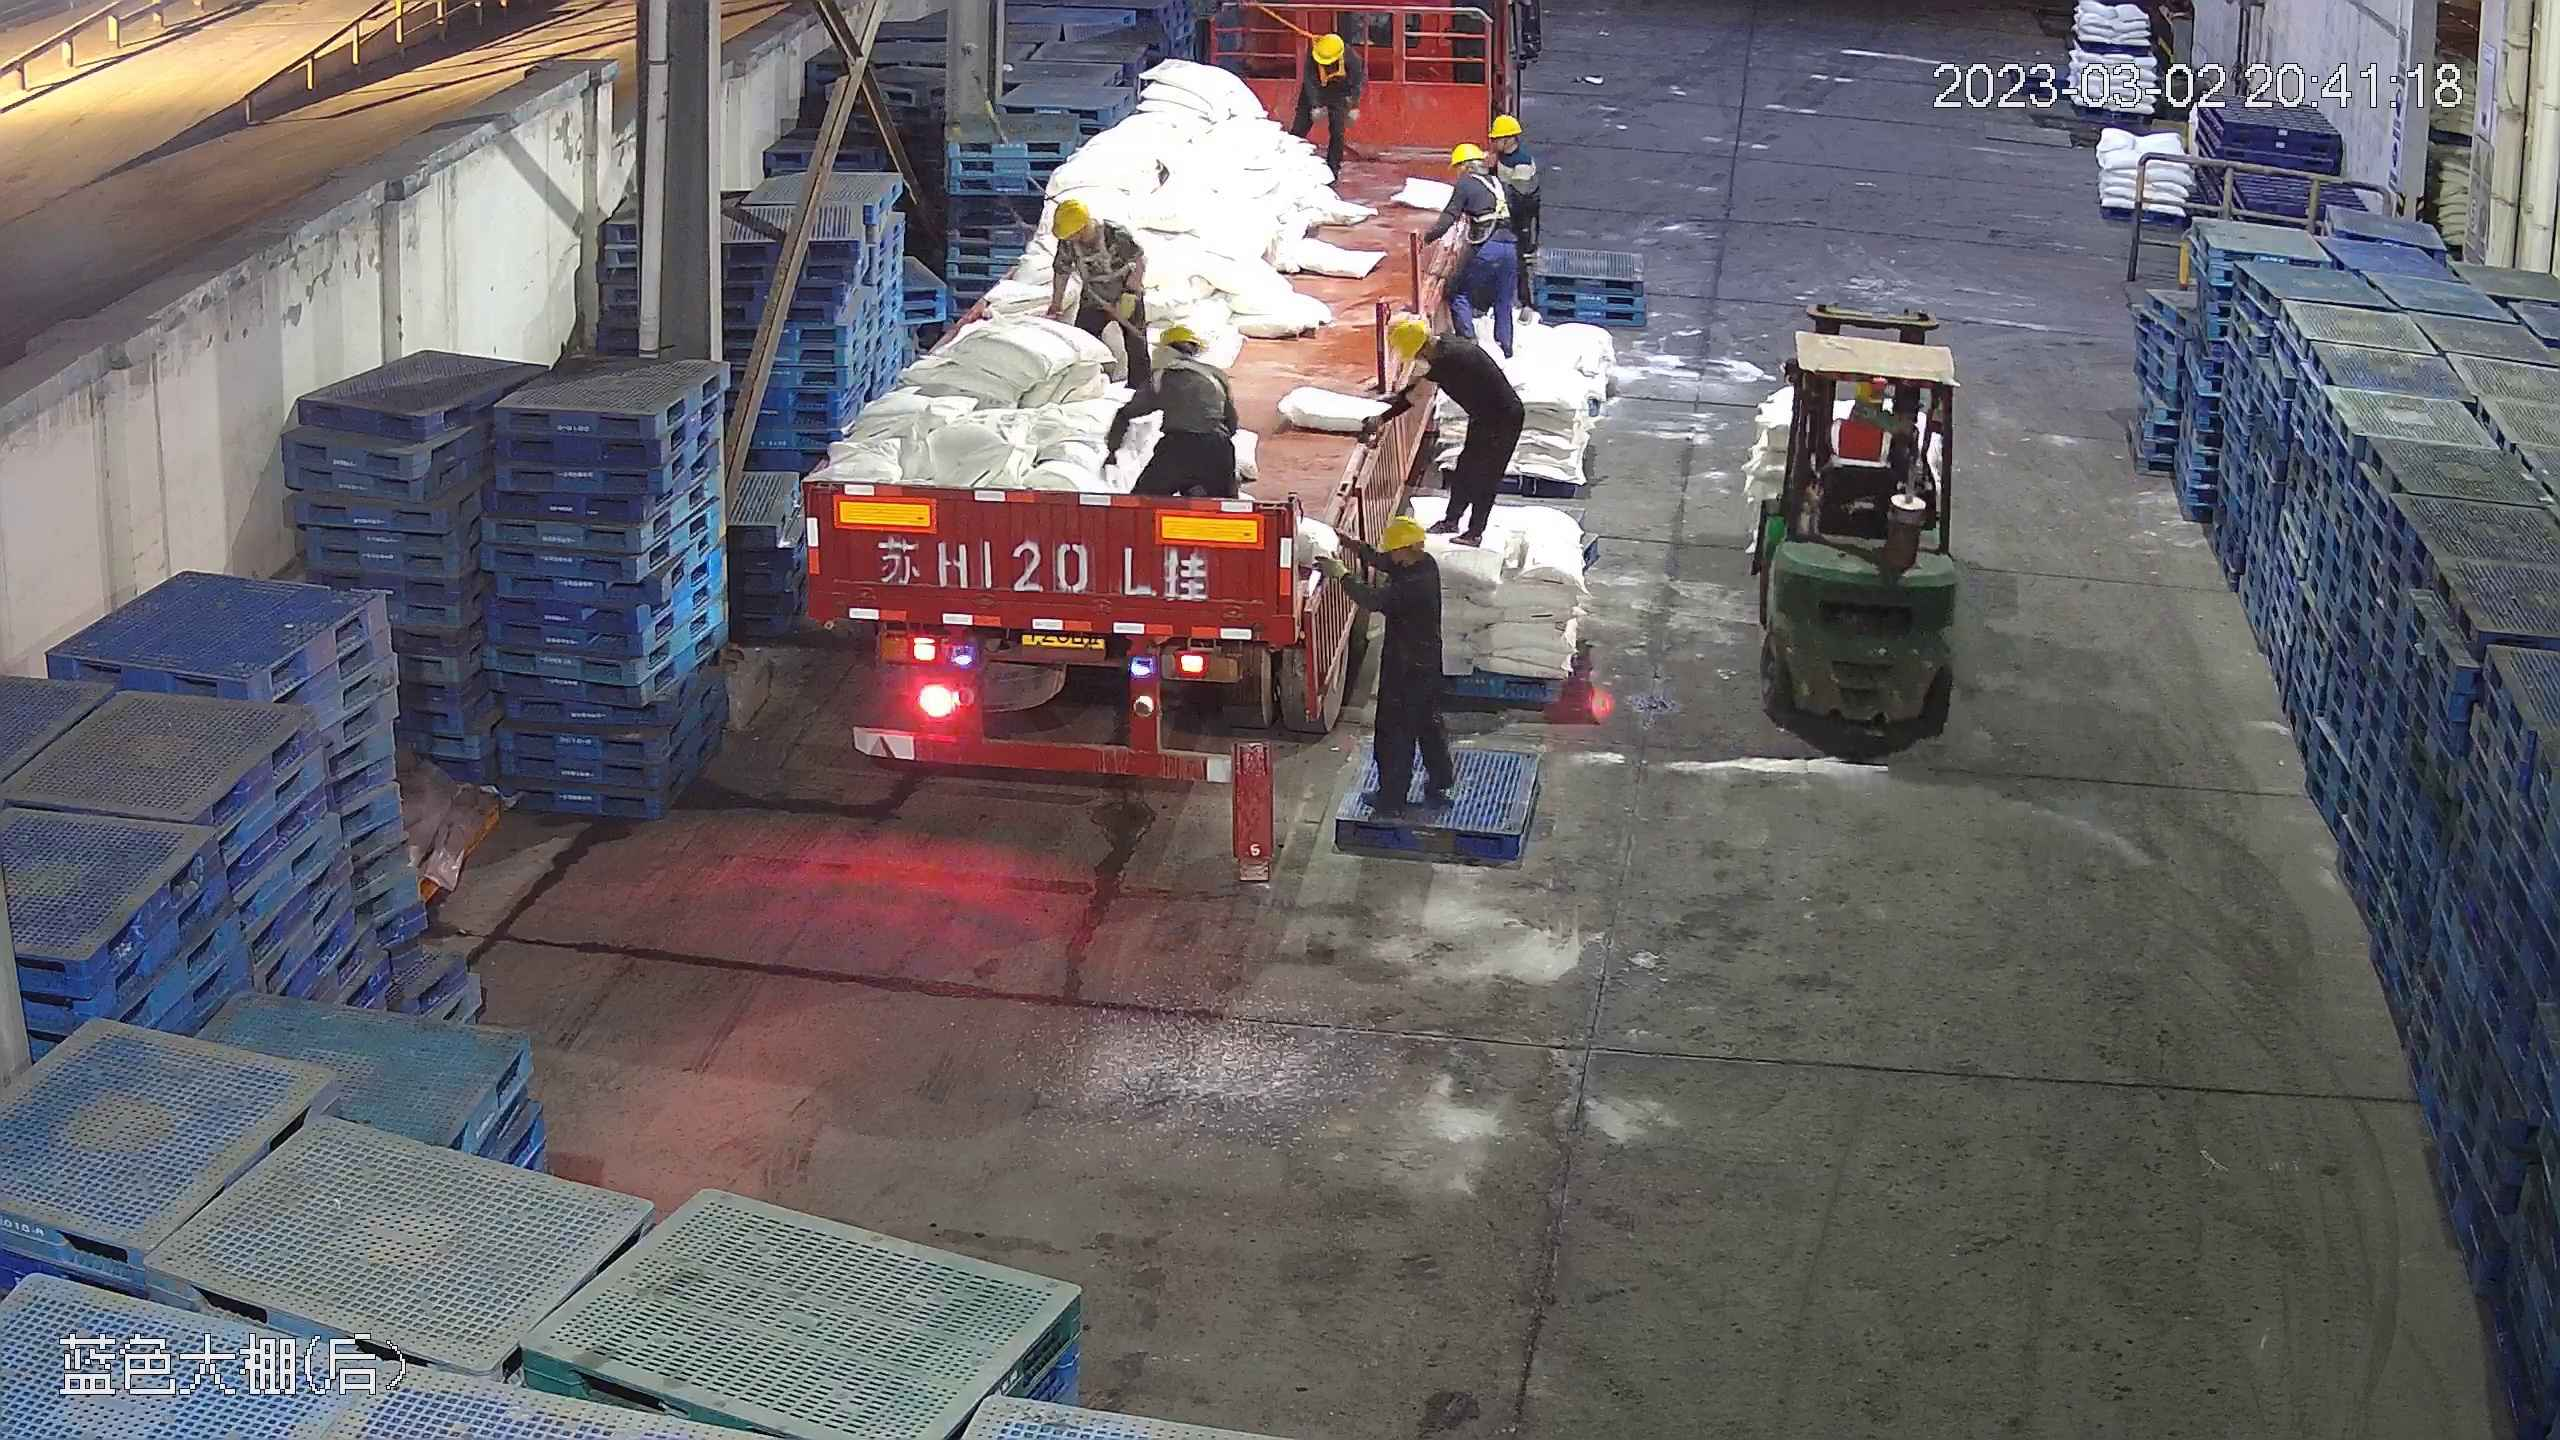belt: (1168, 355, 1241, 426), (1080, 225, 1138, 284), (1467, 164, 1521, 226), (1306, 32, 1347, 85)
head: (1382, 314, 1481, 392), (1368, 509, 1441, 605), (1142, 319, 1229, 396), (1051, 195, 1132, 262), (1443, 136, 1508, 207), (1487, 114, 1538, 191), (1303, 30, 1356, 86)
helmet: (1384, 313, 1432, 362), (1378, 510, 1429, 552), (1049, 195, 1090, 238), (1153, 319, 1199, 356), (1448, 139, 1484, 170), (1309, 30, 1340, 61), (1490, 113, 1524, 138)
people: (1344, 504, 1457, 820), (1375, 312, 1524, 544), (1098, 322, 1242, 508), (1047, 191, 1151, 403), (1433, 125, 1528, 359), (1290, 26, 1365, 190)
truck: (815, 32, 1534, 810)
